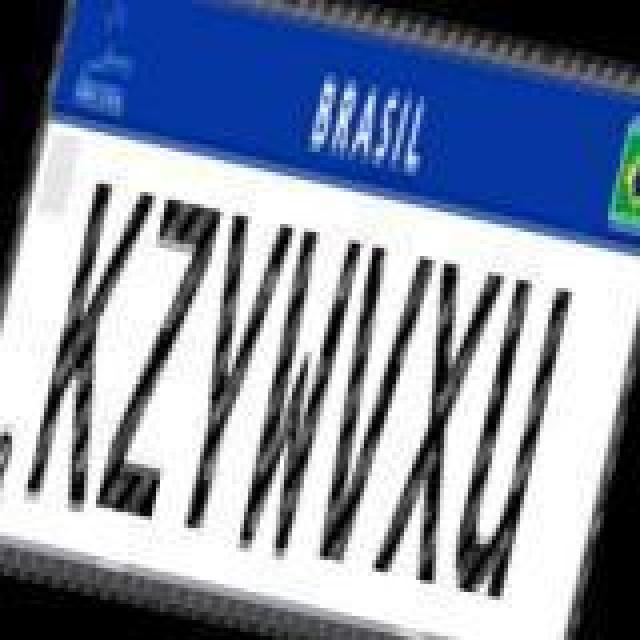K: (20, 172, 156, 516)
U: (442, 274, 574, 606)
V: (300, 242, 436, 574)
W: (228, 224, 364, 568)
X: (372, 256, 508, 592)
Y: (160, 210, 296, 542)
Z: (92, 192, 228, 528)
